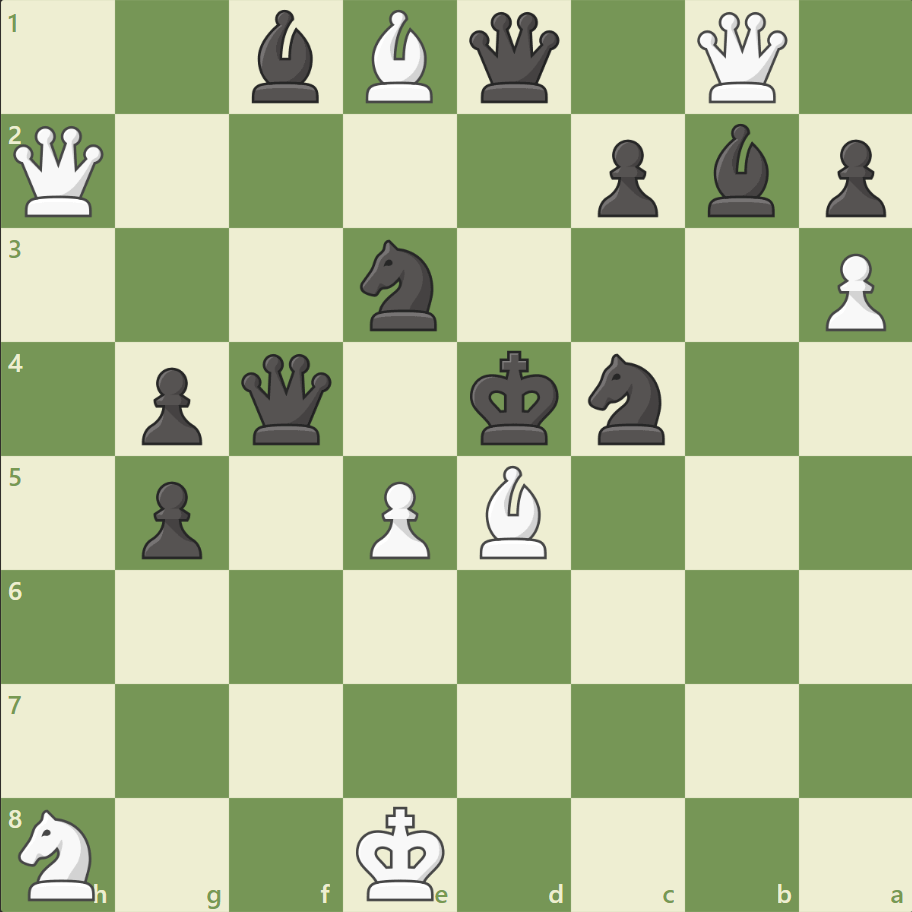B: (471, 460, 555, 563), (358, 6, 442, 109)
K: (351, 798, 451, 906)
N: (11, 802, 108, 904)
P: (361, 473, 435, 564), (815, 246, 889, 337)
Q: (10, 122, 109, 222), (691, 9, 790, 108)
b: (244, 6, 328, 109), (698, 120, 782, 222)
k: (465, 344, 565, 452)
n: (351, 234, 449, 337), (579, 348, 676, 450)
p: (133, 473, 208, 564), (133, 359, 208, 450), (815, 132, 889, 223), (588, 132, 662, 223)
q: (237, 349, 336, 449), (464, 9, 563, 108)
